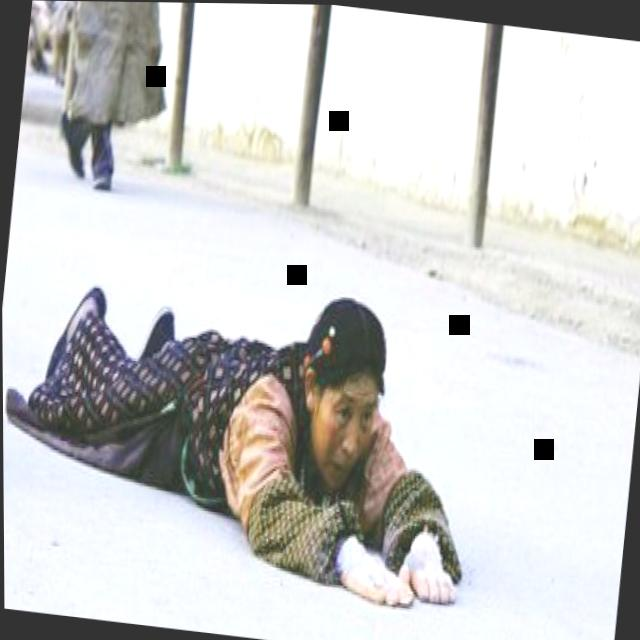Fall-Detected: (1, 226, 508, 608)
